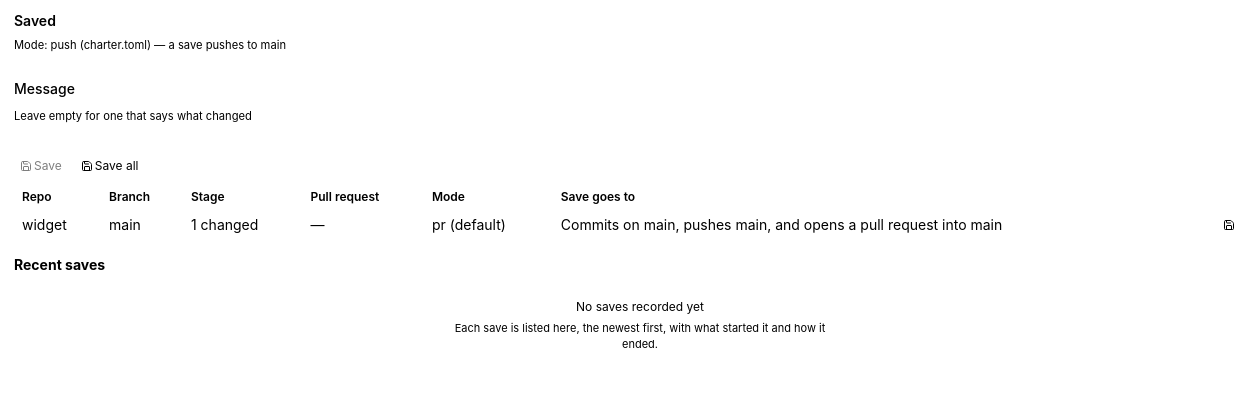
Test: SavingView, with the workspace's repos (charter-app#299) › saves one repo from its row, and says in the core's words whom a held-back save waits for
Click the button named "Save widget". click: x=1229, y=225
box: [1217,214,1241,235]
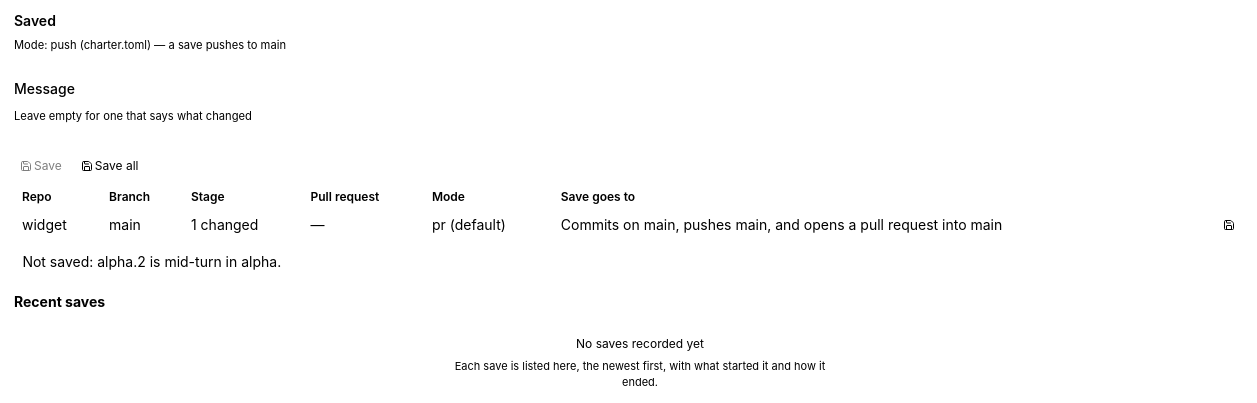
expect the message reads "Not saved: alpha.2 is mid-turn in alpha.": met, box [22,254,281,270]
